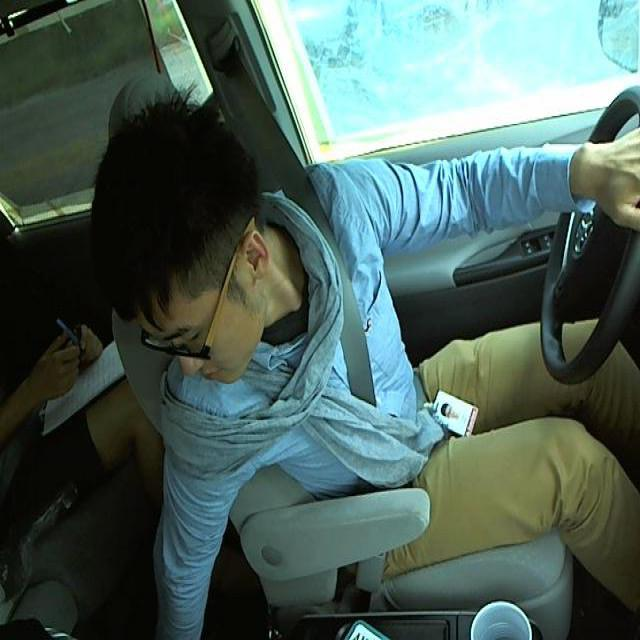seatbelt: (278, 197, 406, 500)
